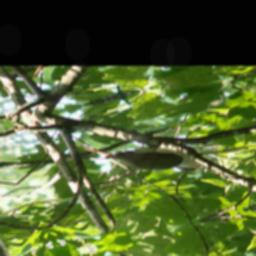Cuckoo: (75, 121, 209, 195)
